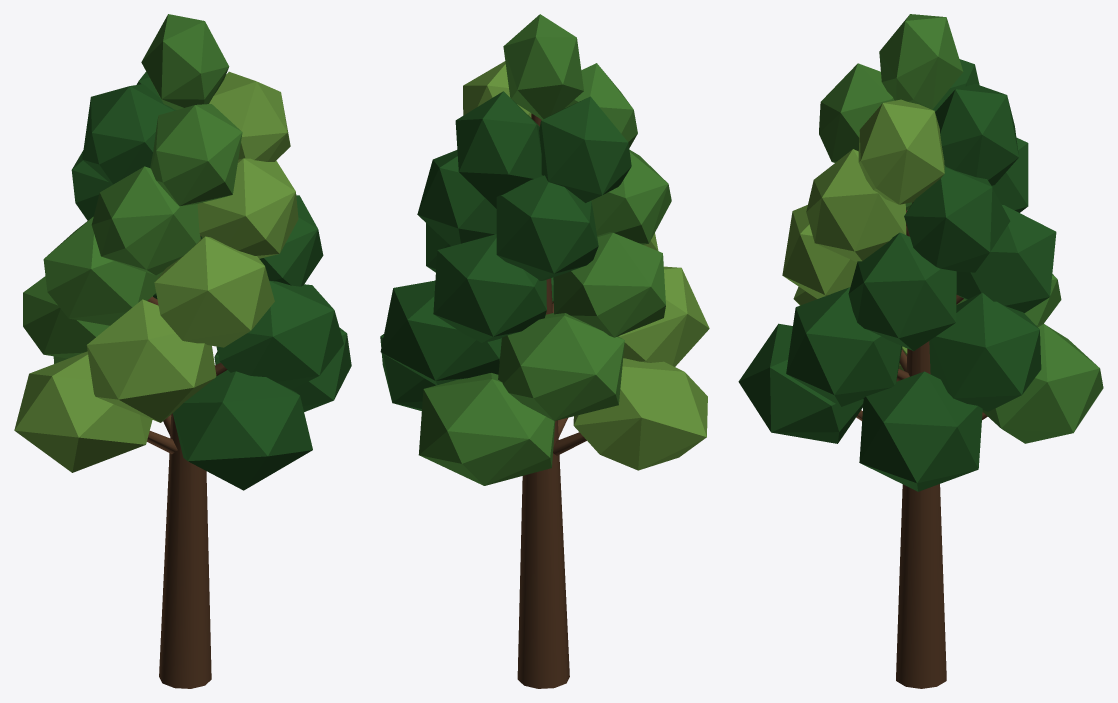
File: tembusu_tree_hd.glb
The picture shows the model from 3 angles, left to right: view 1: azimuth 30°, elevation 25°; view 2: azimuth 150°, elevation 25°; view 3: azimuth 270°, elevation 25°; orthographic projection.
Parts seen in each view (by area): view 1: leaf.002, leaf, leaf.001, trunk; view 2: leaf, leaf.001, leaf.002, trunk; view 3: leaf, leaf.001, leaf.002, trunk.
Boxes of the visible parts, x1,y1,x2,y2 form: leaf.002: (14, 71, 298, 472); leaf: (71, 72, 351, 490); leaf.001: (23, 14, 242, 363); trunk: (147, 235, 227, 688); leaf: (380, 91, 631, 411); leaf.001: (418, 14, 671, 485); leaf.002: (463, 61, 709, 470); trunk: (517, 113, 586, 688); leaf: (738, 59, 1056, 491); leaf.001: (819, 14, 1103, 443); leaf.002: (782, 99, 944, 381); trunk: (856, 202, 987, 688).
Size of the model in its own units: 4.92 by 9.36 by 4.68.
